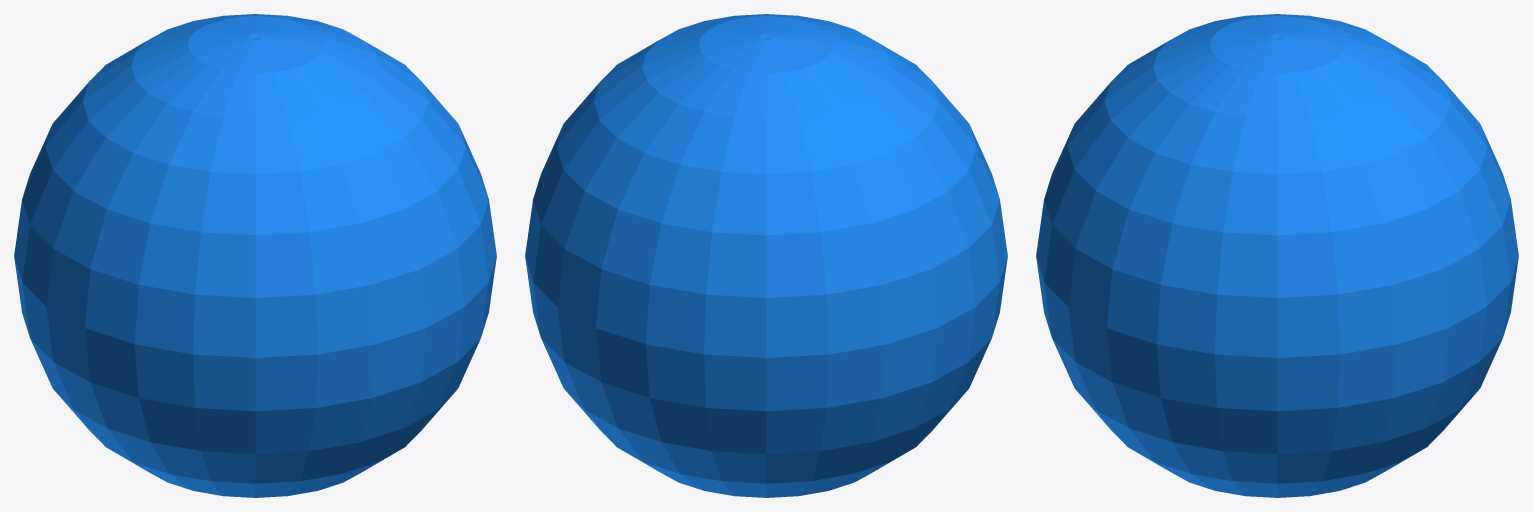
File: Proto_Block_Sphere_Hedron_01.fbx
3 renders of one model, left to right at view 1: azimuth 30°, elevation 25°; view 2: azimuth 150°, elevation 25°; view 3: azimuth 270°, elevation 25°, orthographic.
Parts seen in each view (by area): view 1: Proto_Block_Sphere_Hedron_01; view 2: Proto_Block_Sphere_Hedron_01; view 3: Proto_Block_Sphere_Hedron_01.
Boxes of the visible parts, bbox=[...] form: Proto_Block_Sphere_Hedron_01: bbox=[14, 14, 496, 497]; Proto_Block_Sphere_Hedron_01: bbox=[525, 14, 1007, 497]; Proto_Block_Sphere_Hedron_01: bbox=[1036, 14, 1518, 497].
Bounding box in the file's own units: 1 × 1 × 1.
